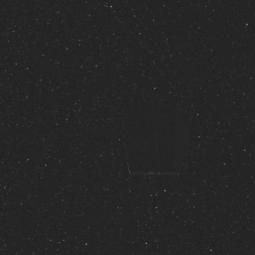double_start: (105, 95, 203, 176)
